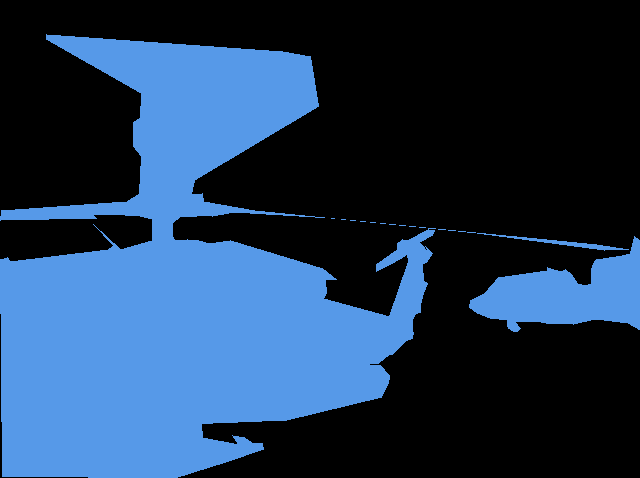Airplane: (0, 34, 628, 478), (469, 236, 640, 331)
